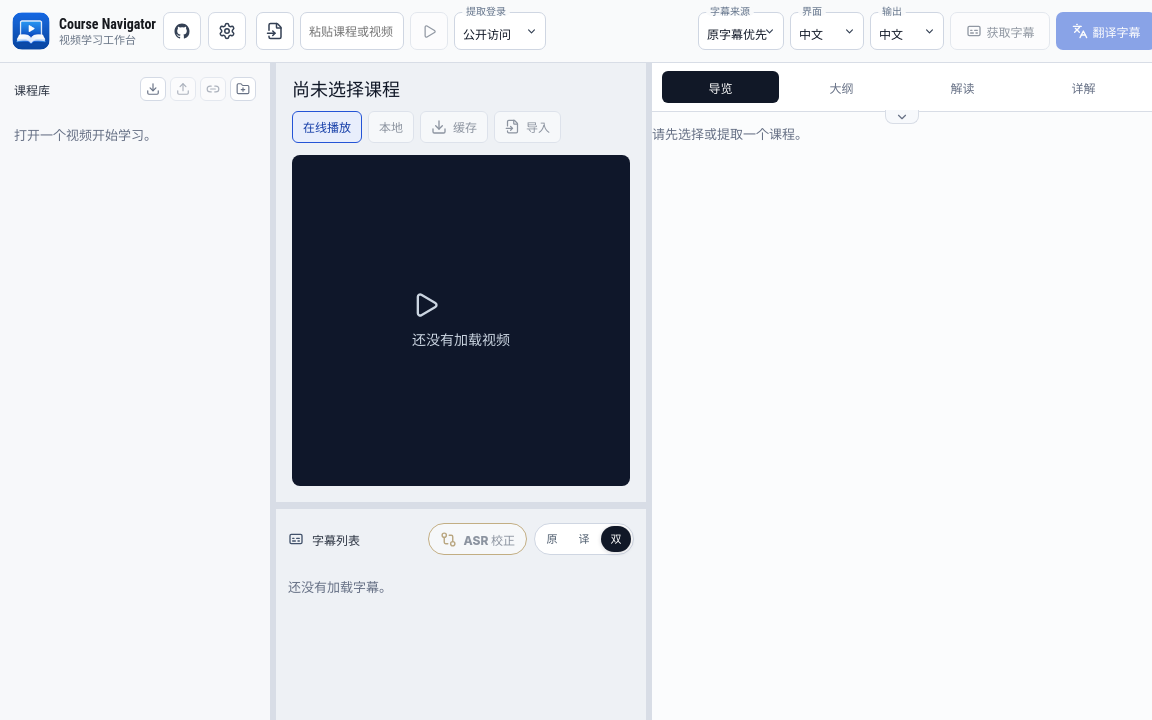
Scenario: App language defaults › shows separate model slots in settings
Click the button named "模型设置".
click(227, 31)  # box [208, 12, 246, 50]
(page scrolled)
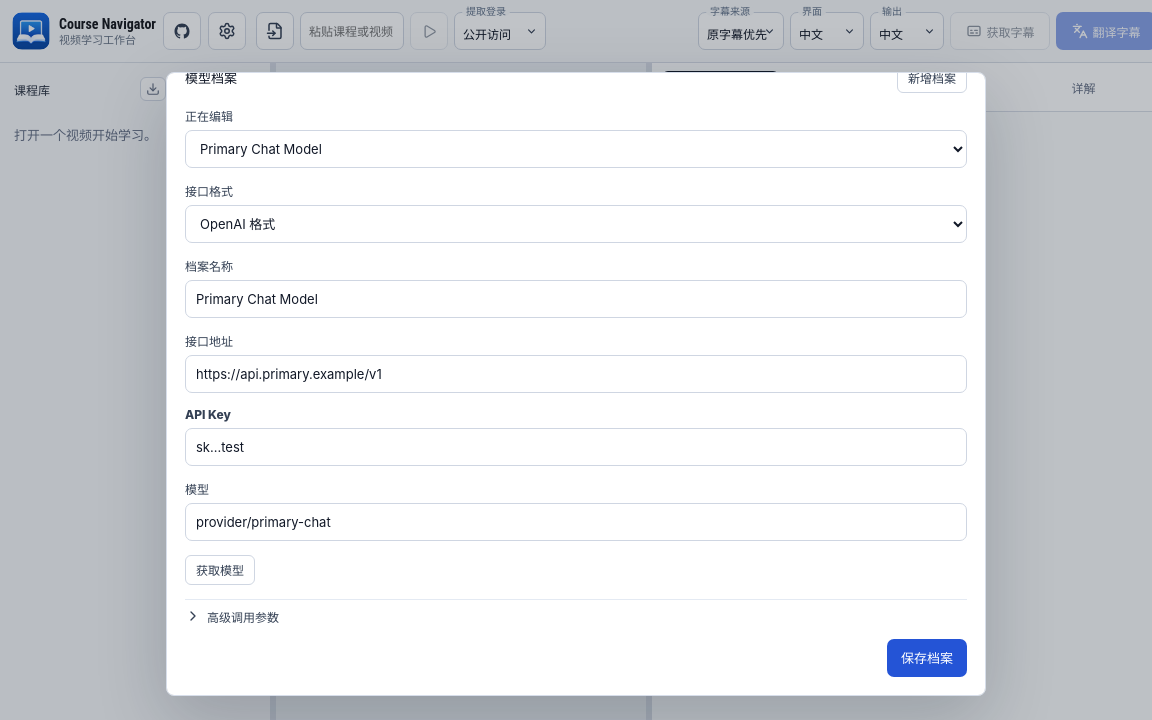
Check: the text "模型档案" is shown, box [185, 72, 237, 87]
Check: the field labelled "API Key" holds "sk...test", box [185, 428, 967, 466]
Check: the button "高级调用参数" is shown
Click the button "高级调用参数".
click(232, 616)  # box [185, 608, 279, 625]
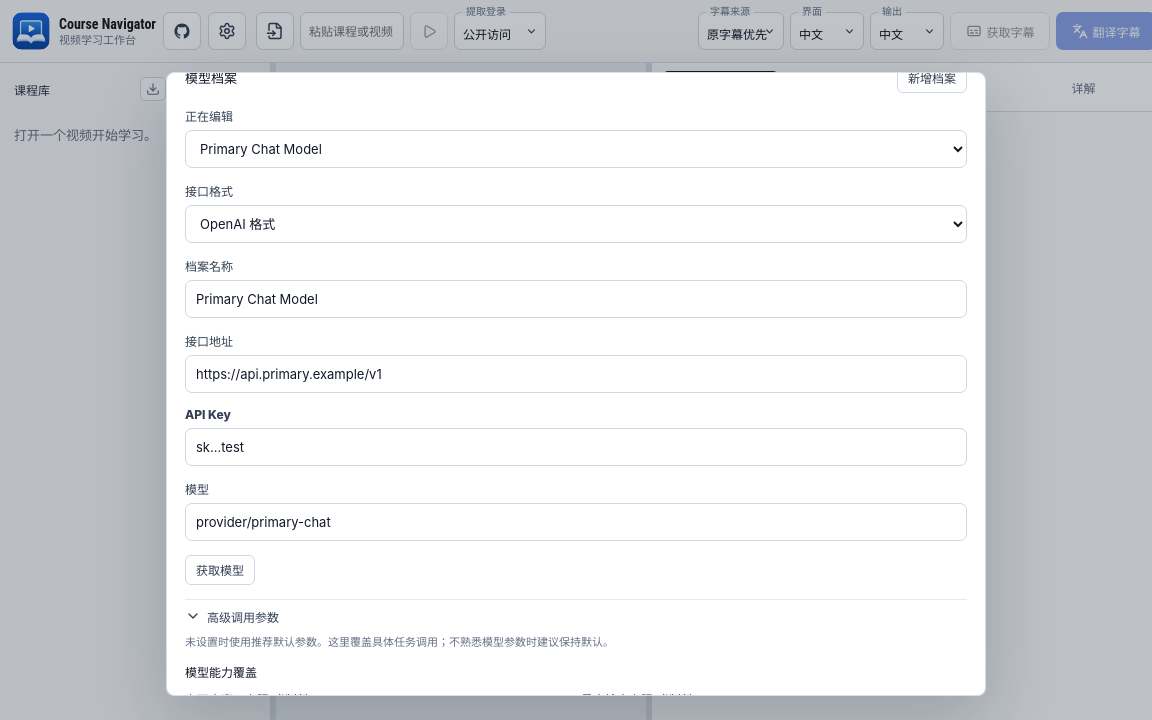
Check: the heading "模型能力覆盖" is shown, box [185, 665, 257, 680]
